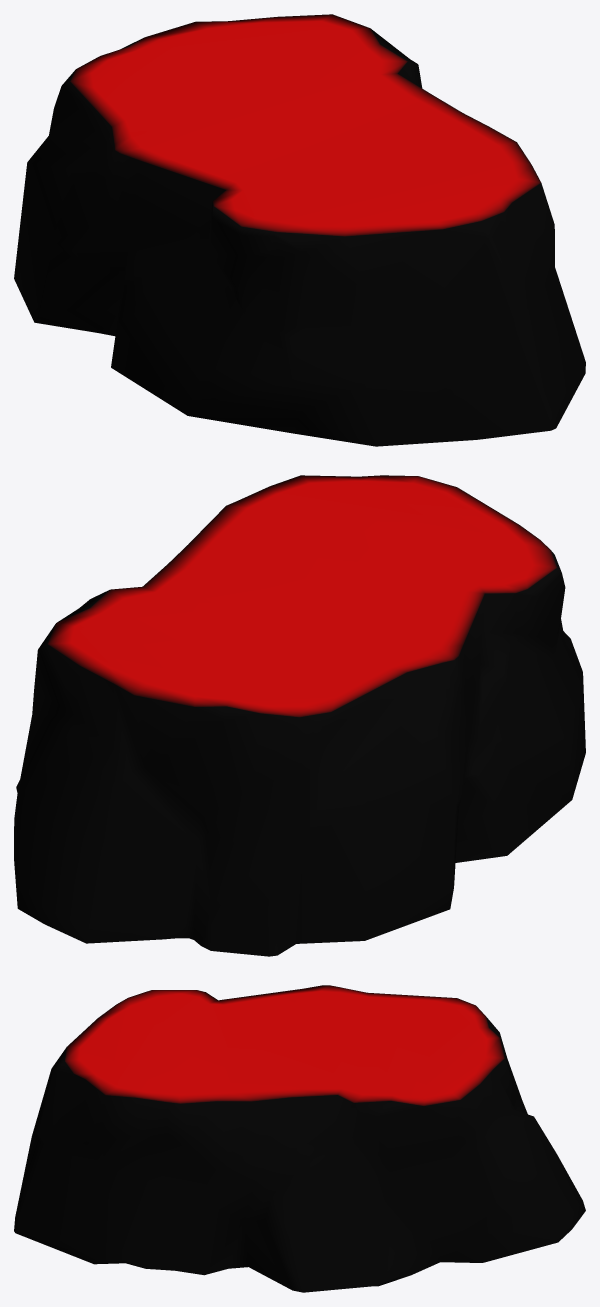
The model's file is Shitou_hill_12.fbx.
The picture shows the model from 3 angles, top to bottom: view 1: azimuth 30°, elevation 25°; view 2: azimuth 150°, elevation 25°; view 3: azimuth 270°, elevation 25°; orthographic projection. The views are drawn at different scales.
Visible parts, largest first — view 1: Shitou_hill_12_LOD0; view 2: Shitou_hill_12_LOD0; view 3: Shitou_hill_12_LOD0.
Part boxes in pixels (x1=…): Shitou_hill_12_LOD0: x1=14, y1=14, x2=585, y2=446; Shitou_hill_12_LOD0: x1=14, y1=475, x2=585, y2=956; Shitou_hill_12_LOD0: x1=14, y1=985, x2=585, y2=1292.
Bounding box in the file's own units: 334 × 145 × 479.
